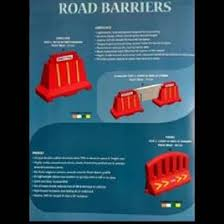barrier: (37, 49, 91, 103), (141, 151, 192, 198), (111, 88, 146, 119), (154, 80, 182, 111)
